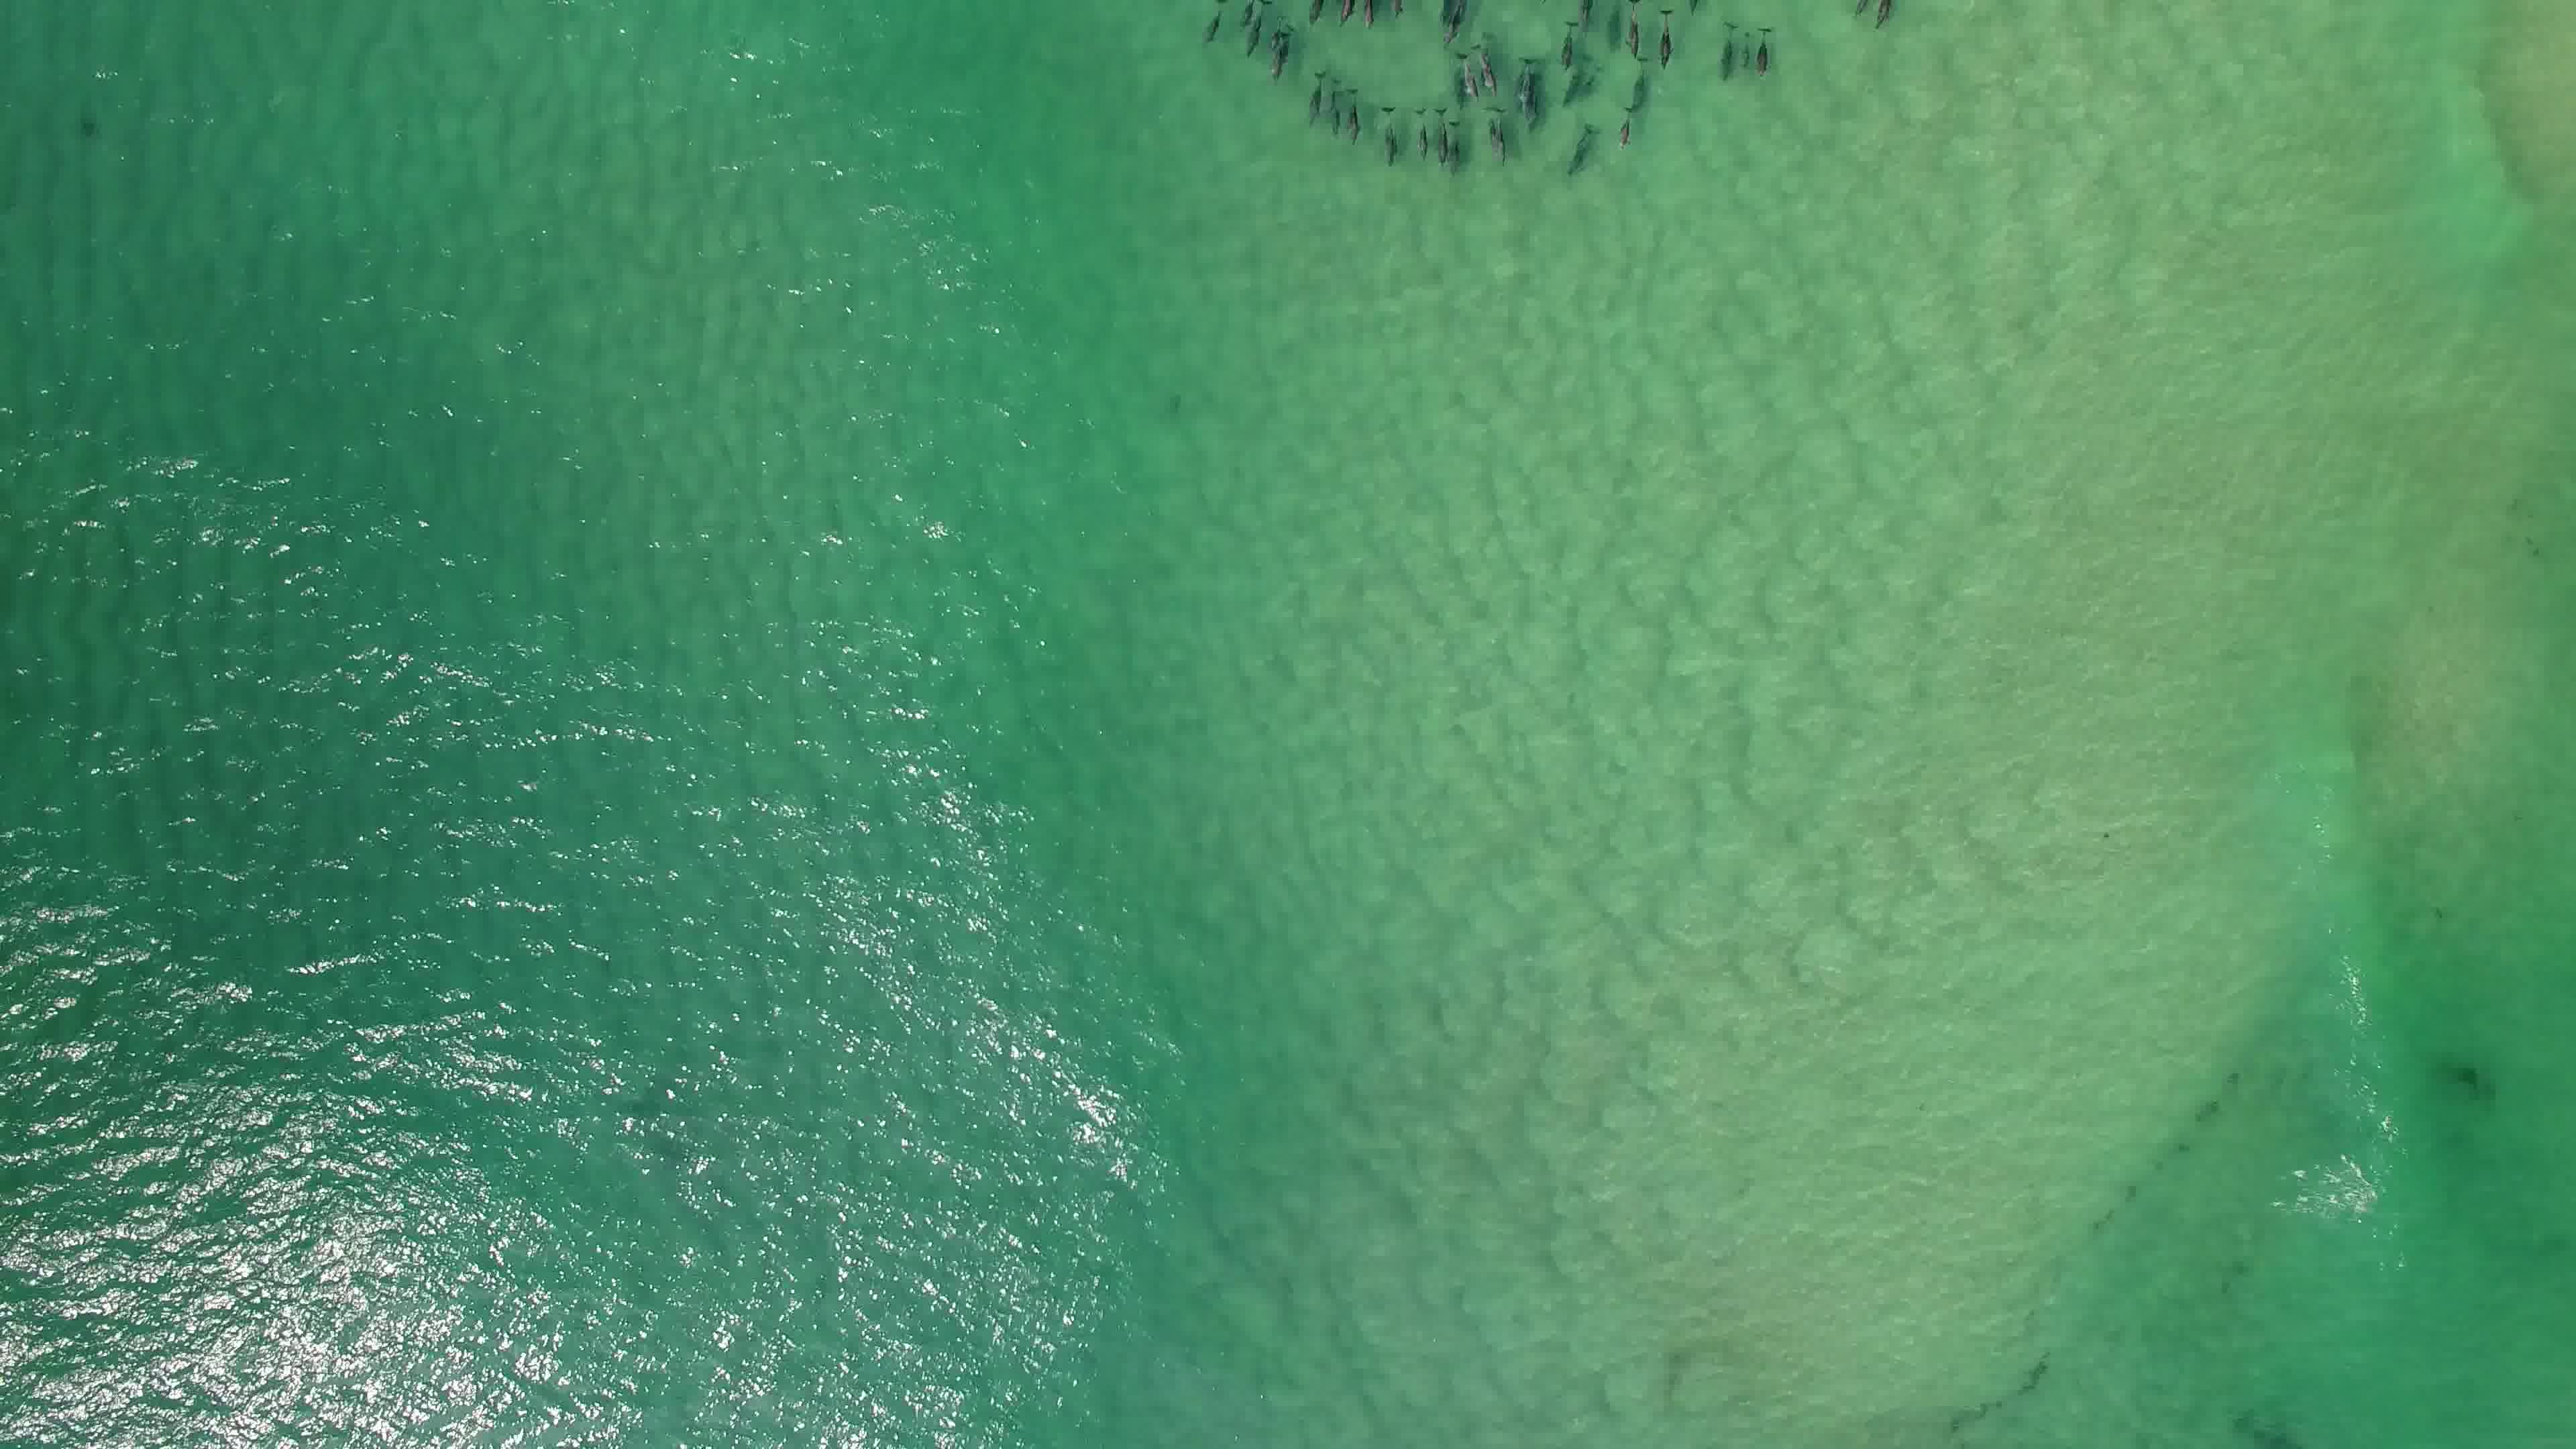dolphin: (1645, 7, 1698, 80), (1371, 103, 1407, 173), (1560, 120, 1598, 188), (1267, 21, 1300, 90), (1468, 42, 1513, 94), (1513, 60, 1546, 127), (1746, 19, 1780, 83), (1343, 85, 1375, 152), (1410, 104, 1440, 175), (1479, 106, 1514, 165), (1606, 106, 1644, 152), (1453, 57, 1490, 103), (1431, 106, 1454, 175), (1244, 2, 1269, 64), (1201, 4, 1231, 50), (1555, 23, 1580, 78), (1323, 83, 1345, 145), (1306, 64, 1323, 138), (1440, 122, 1468, 166), (1870, 0, 1909, 30), (1357, 0, 1391, 32), (1449, 0, 1474, 42), (1575, 0, 1603, 34), (1334, 0, 1359, 27), (1385, 4, 1415, 25), (1847, 0, 1870, 27), (1309, 0, 1330, 28), (1684, 0, 1713, 14)
